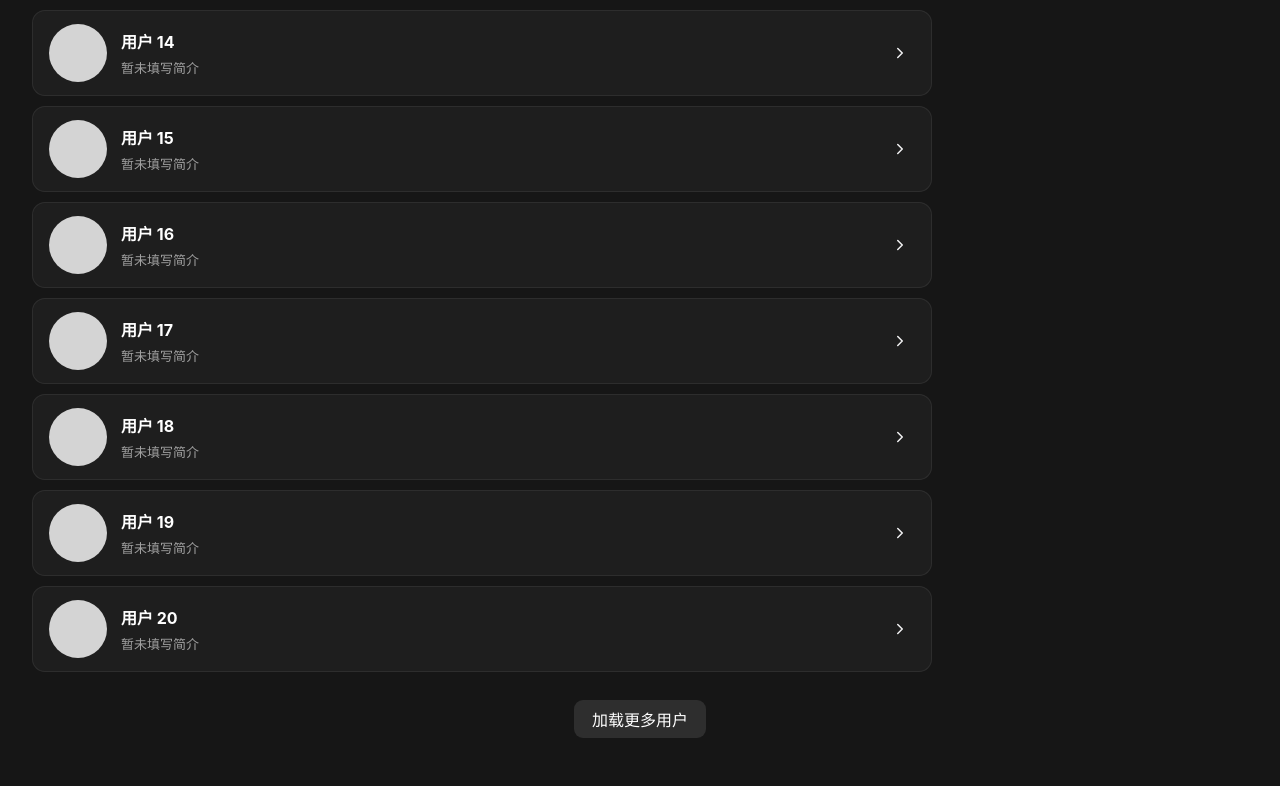
it: search page navigation › keeps a tall user page and loads the next cursor page
(page scrolled)
Click the button "加载更多用户" at (640, 719), box x1=574 y1=700 x2=706 y2=738
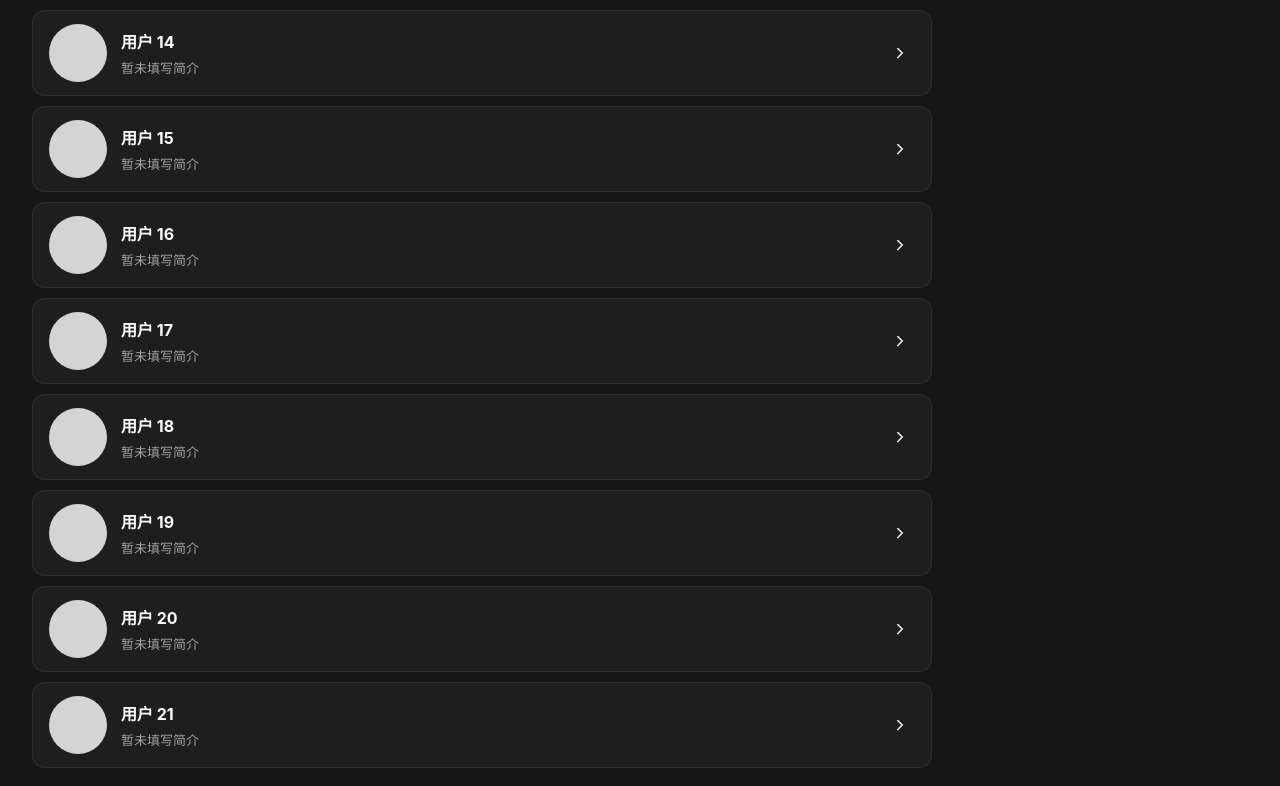
Expected: the button "用户 21 暂未填写简介" is shown, x1=32 y1=682 x2=932 y2=768
